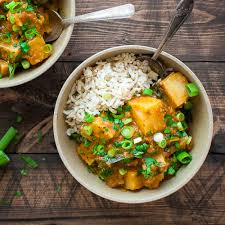rice: (69, 48, 170, 177)
